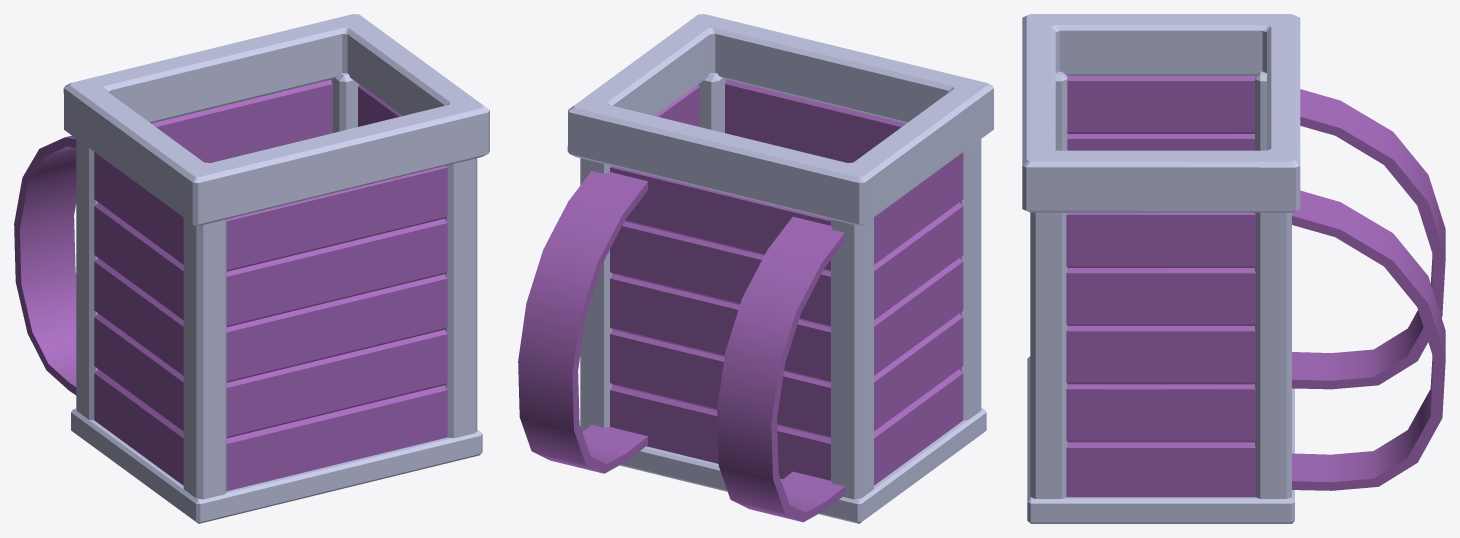
3 views of the same model, side by side, from view 1: azimuth 30°, elevation 25°; view 2: azimuth 150°, elevation 25°; view 3: azimuth 270°, elevation 25° (orthographic). The views are drawn at different scales.
Parts seen in each view (by area): view 1: Balo_6; view 2: Balo_6; view 3: Balo_6.
Part boxes in pixels (box(x1,y1,x2,y2)): Balo_6: box(14, 14, 489, 523); Balo_6: box(518, 14, 993, 523); Balo_6: box(1022, 14, 1445, 523).
Size of the model in its own units: 109 by 122 by 129.
